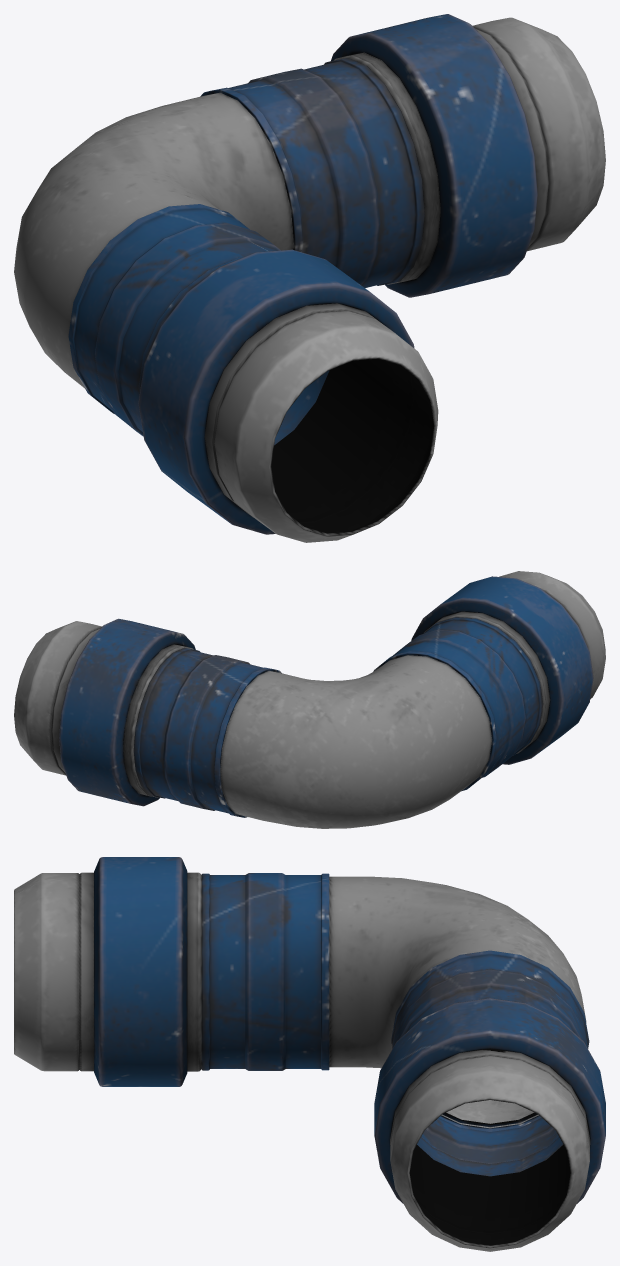
Rendered from SM_Pipe01_90o.fbx.
The picture shows the model from 3 angles, top to bottom: view 1: azimuth 30°, elevation 25°; view 2: azimuth 150°, elevation 25°; view 3: azimuth 270°, elevation 25°; orthographic projection. The views are drawn at different scales.
Parts seen in each view (by area): view 1: SM_Pipe01_90o_LOD0; view 2: SM_Pipe01_90o_LOD0; view 3: SM_Pipe01_90o_LOD0.
Part boxes in pixels (bbox=[...]): SM_Pipe01_90o_LOD0: bbox=[14, 14, 605, 542]; SM_Pipe01_90o_LOD0: bbox=[14, 571, 605, 828]; SM_Pipe01_90o_LOD0: bbox=[14, 857, 605, 1251].
Size of the model in its own units: 52.63 by 52.63 by 20.59.
1 material, 1 textured.
